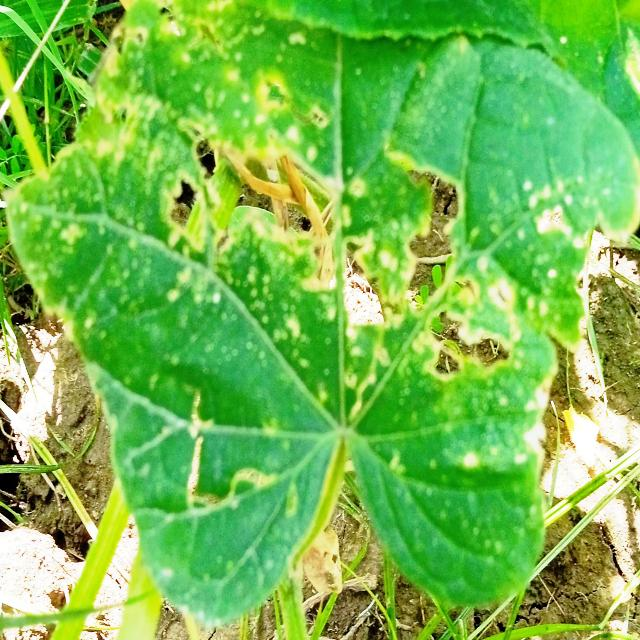Anthracnose: (393, 150, 516, 381), (163, 124, 220, 236)
